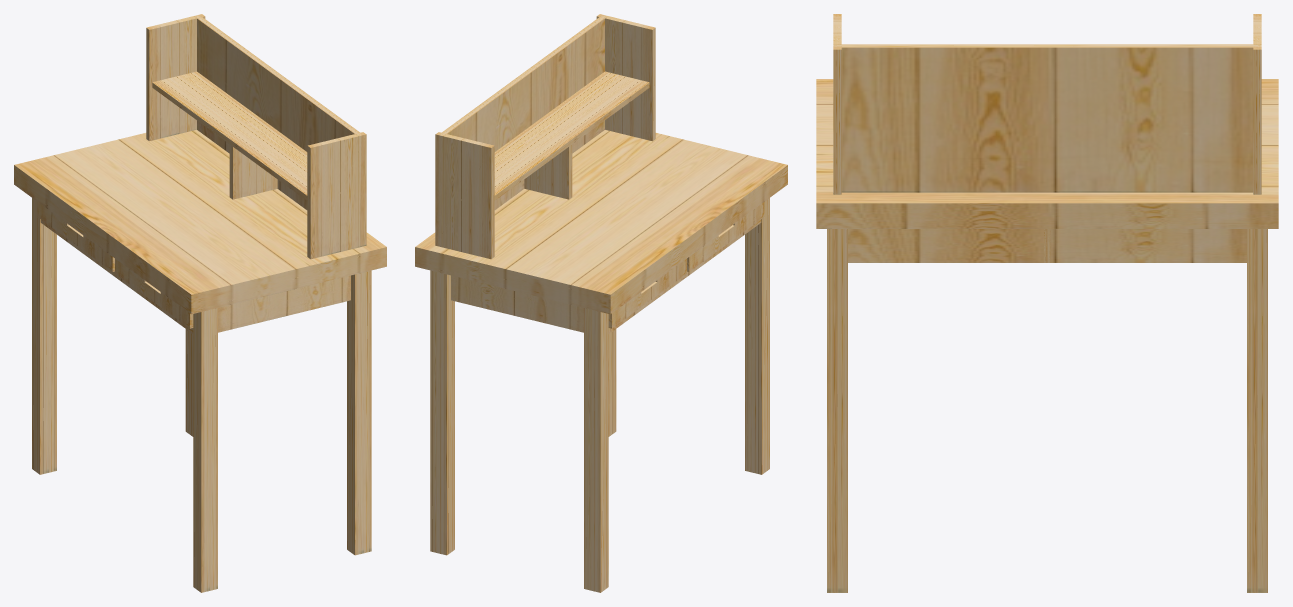
Rendered from IVRC Desk.obj.
The picture shows the model from 3 angles, left to right: view 1: azimuth 30°, elevation 25°; view 2: azimuth 150°, elevation 25°; view 3: azimuth 270°, elevation 25°; orthographic projection. The views are drawn at different scales.
Parts seen in each view (by area): view 1: group2 pCube32, group2 pCube47, group2 pCube48, group2 pCube31, group2 pCube50, group2 pCube53, pCube30 group2, group2 pCube51, group2 pCube36, group2 pCube54, group2 pCube46, group2 pCube45 (+1 smaller); view 2: group2 pCube32, group2 pCube47, pCube30 group2, group2 pCube49, group2 pCube51, group2 pCube53, group2 pCube48, group2 pCube50, group2 pCube36, group2 pCube54, group2 pCube45, group2 pCube46 (+1 smaller); view 3: group2 pCube47, group2 pCube32, group2 pCube36, group2 pCube31, group2 pCube49, group2 pCube50, group2 pCube51.
Part boxes in pixels (bbox=[...]): group2 pCube32: bbox=[14, 130, 386, 314]; group2 pCube47: bbox=[196, 16, 361, 209]; group2 pCube48: bbox=[193, 308, 217, 592]; group2 pCube31: bbox=[347, 270, 371, 555]; group2 pCube50: bbox=[307, 132, 366, 259]; group2 pCube53: bbox=[152, 71, 307, 200]; pCube30 group2: bbox=[32, 198, 56, 474]; group2 pCube51: bbox=[146, 14, 205, 141]; group2 pCube36: bbox=[40, 219, 350, 333]; group2 pCube54: bbox=[229, 144, 277, 199]; group2 pCube46: bbox=[115, 259, 193, 328]; group2 pCube45: bbox=[37, 202, 114, 271]; group2 pCube32: bbox=[415, 130, 787, 314]; group2 pCube47: bbox=[440, 16, 605, 209]; pCube30 group2: bbox=[584, 308, 608, 592]; group2 pCube49: bbox=[430, 270, 454, 555]; group2 pCube51: bbox=[435, 132, 494, 259]; group2 pCube53: bbox=[494, 71, 649, 200]; group2 pCube48: bbox=[745, 198, 769, 474]; group2 pCube50: bbox=[596, 14, 655, 141]; group2 pCube36: bbox=[451, 219, 761, 333]; group2 pCube54: bbox=[524, 144, 572, 199]; group2 pCube45: bbox=[608, 259, 686, 328]; group2 pCube46: bbox=[687, 202, 764, 271]; group2 pCube47: bbox=[837, 44, 1257, 192]; group2 pCube32: bbox=[816, 79, 1278, 228]; group2 pCube36: bbox=[848, 229, 1246, 262]; group2 pCube31: bbox=[827, 229, 847, 592]; group2 pCube49: bbox=[1247, 229, 1267, 592]; group2 pCube50: bbox=[833, 14, 841, 194]; group2 pCube51: bbox=[1253, 14, 1261, 194].
Size of the model in its own units: 3.5 by 7.12 by 5.5.
Materials: 1 (1 with a texture image).
